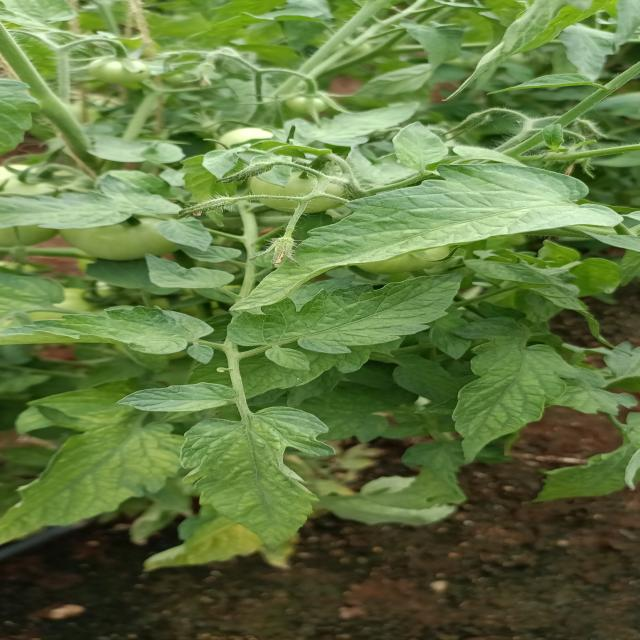Healthy Leaf: (229, 154, 630, 286), (189, 416, 349, 578), (0, 424, 178, 551), (253, 270, 448, 366), (448, 333, 564, 462), (0, 303, 208, 358), (133, 250, 236, 293), (118, 380, 233, 413)
